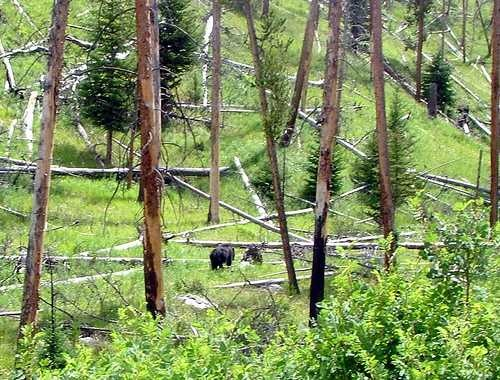bear: (151, 186, 279, 314)
